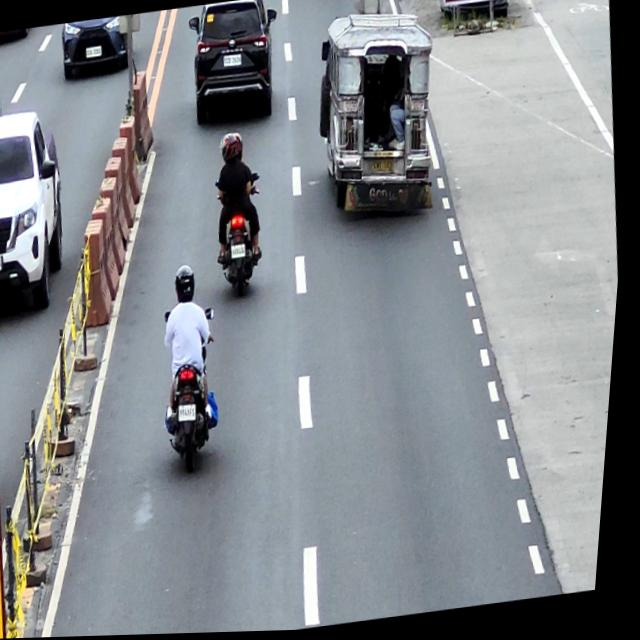Car: (0, 107, 82, 318), (181, 0, 289, 132), (58, 15, 135, 81), (0, 305, 13, 505)
Jeep: (305, 4, 453, 227)
License-Plate: (373, 159, 398, 178), (184, 404, 204, 423), (223, 55, 243, 69), (233, 244, 250, 260), (85, 46, 104, 58), (0, 256, 7, 273)
Motorcycle: (158, 304, 236, 475), (210, 172, 274, 302)
